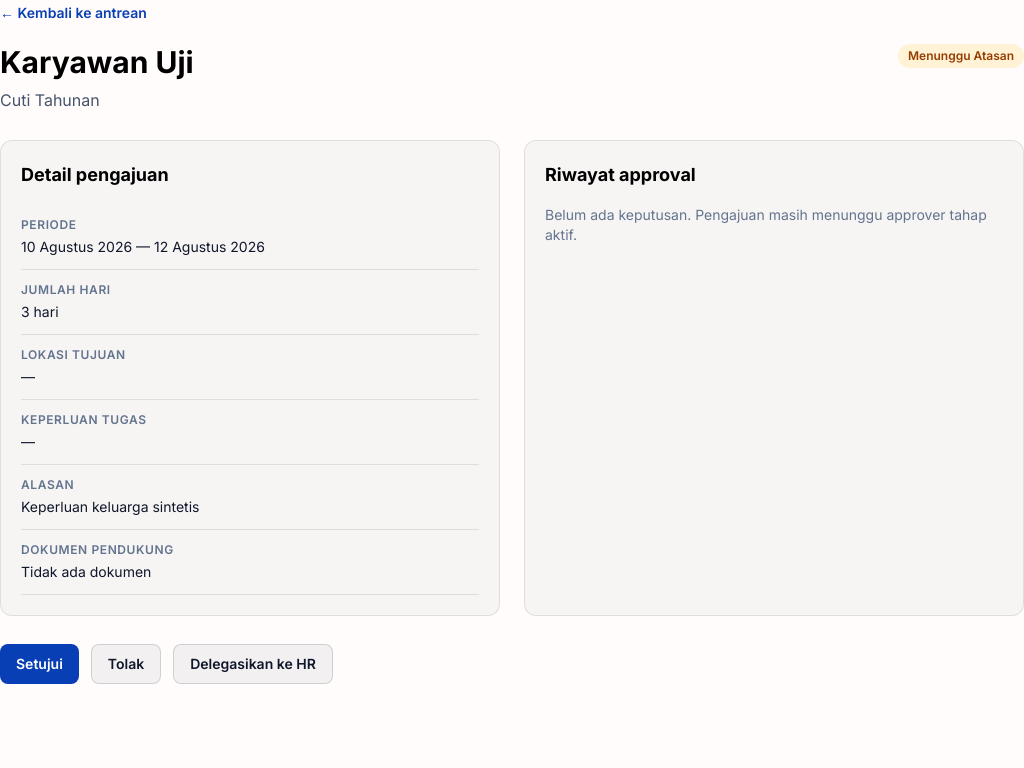
Test: ApprovalDetailPage › keeps the dialog open and shows the reason on other failures
What coordinates should you click on to do the following:
click the button "Setujui"
I would click on:
 (39, 664)
Its box is [0,644,79,684].
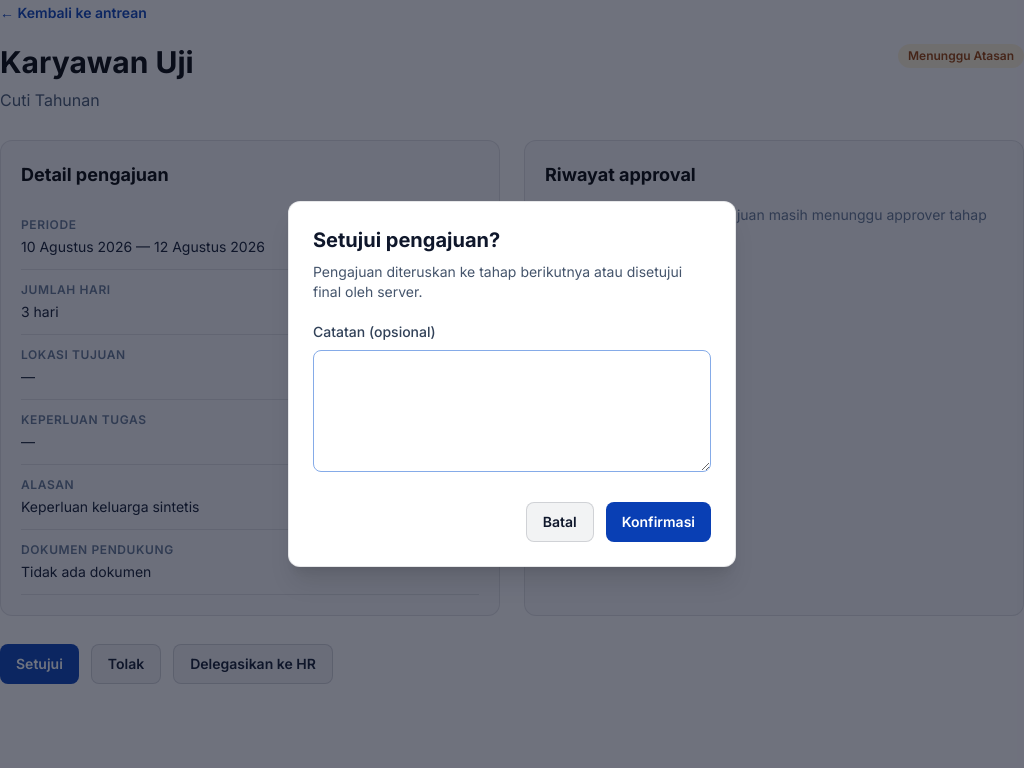
What coordinates should you click on to do the following:
click the button "Konfirmasi"
I would click on:
 (658, 522)
Its box is [606,502,711,542].
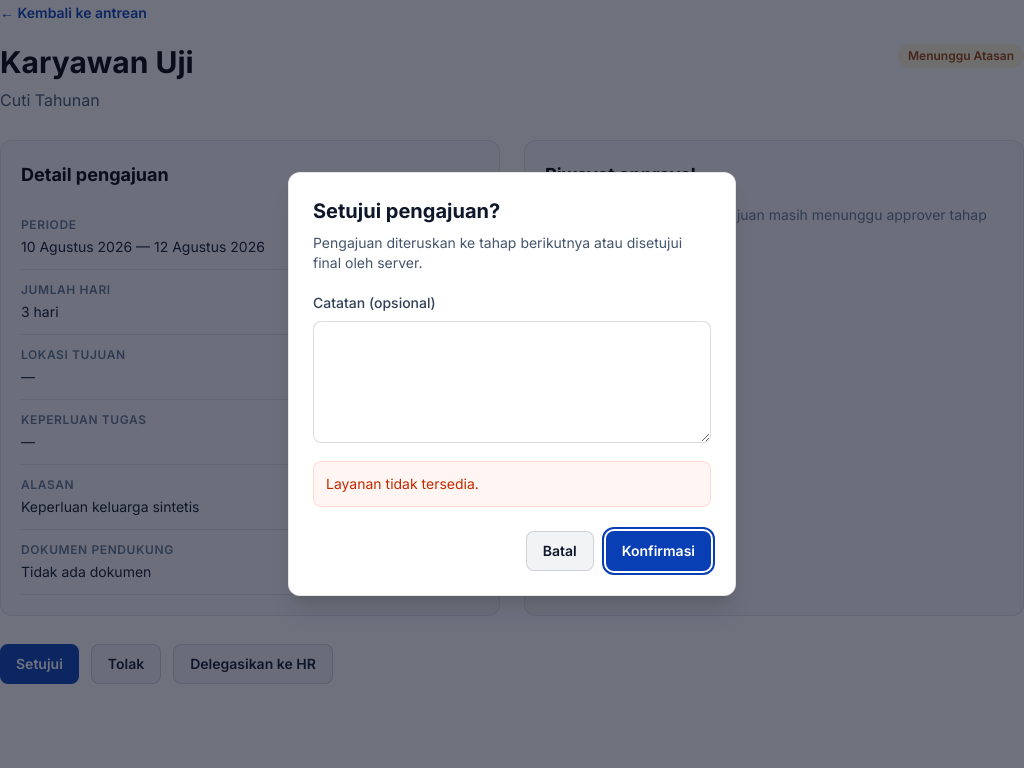
Check: the dialog is shown, box [288,172,736,596]
Check: the text "Layanan tidak tersedia." is shown, box [313,461,711,507]
